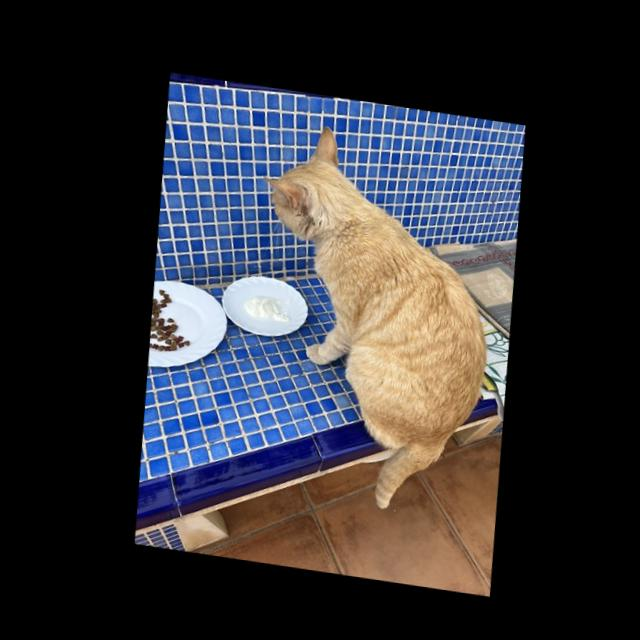animals: (229, 114, 510, 519)
